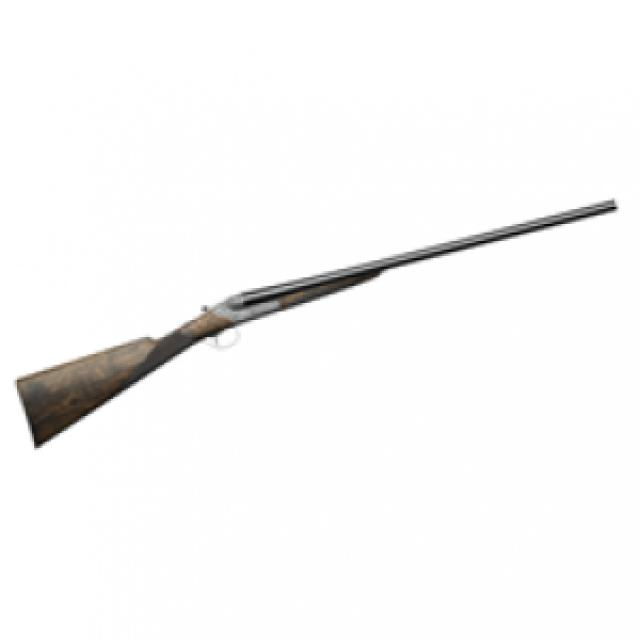rifle: (9, 189, 632, 464)
